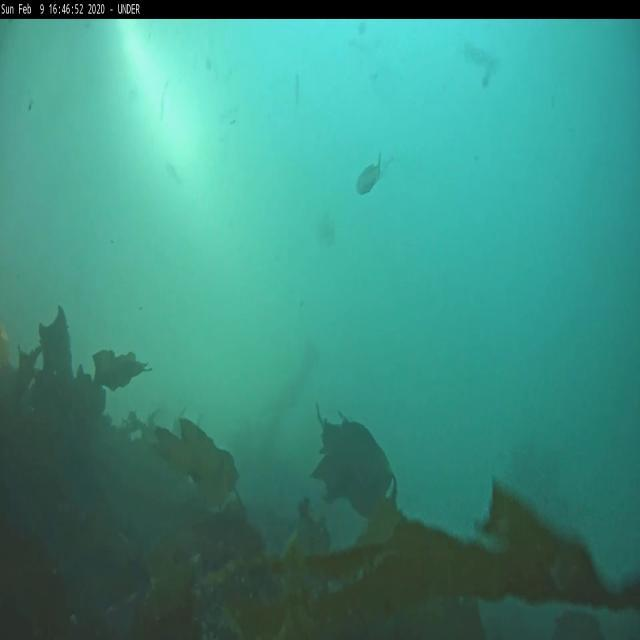fish: (356, 153, 382, 199)
